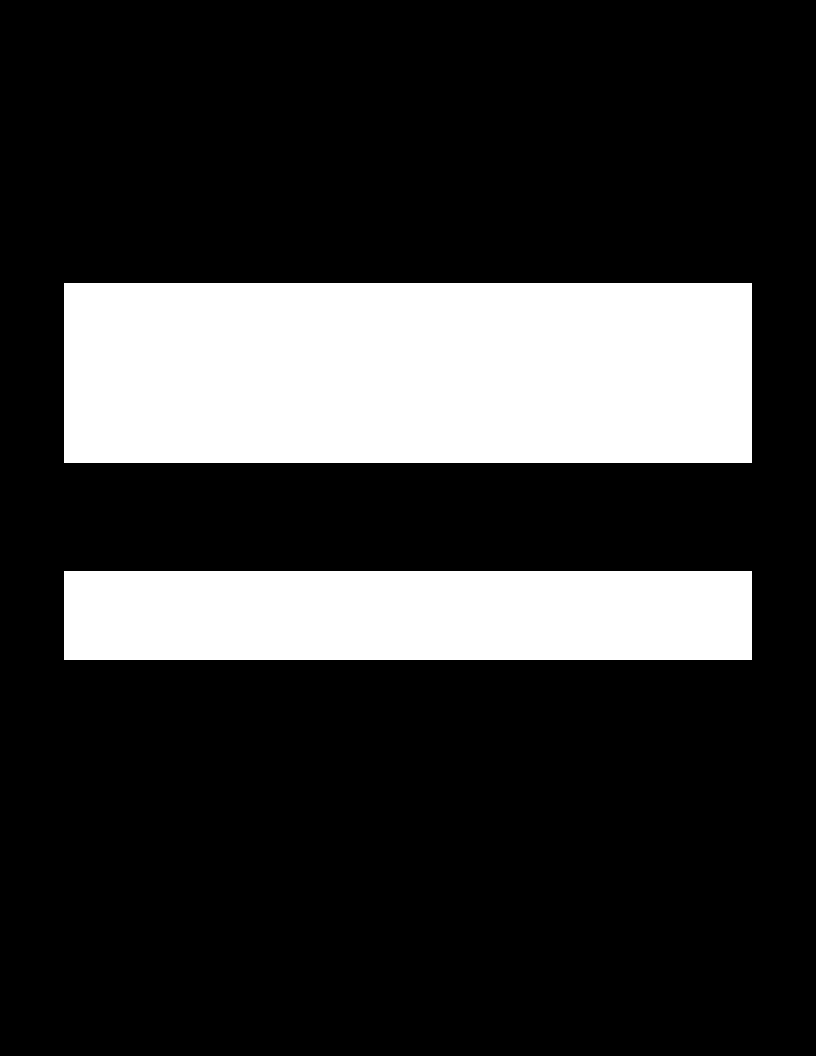table: (64, 283, 751, 462), (64, 571, 751, 659)
